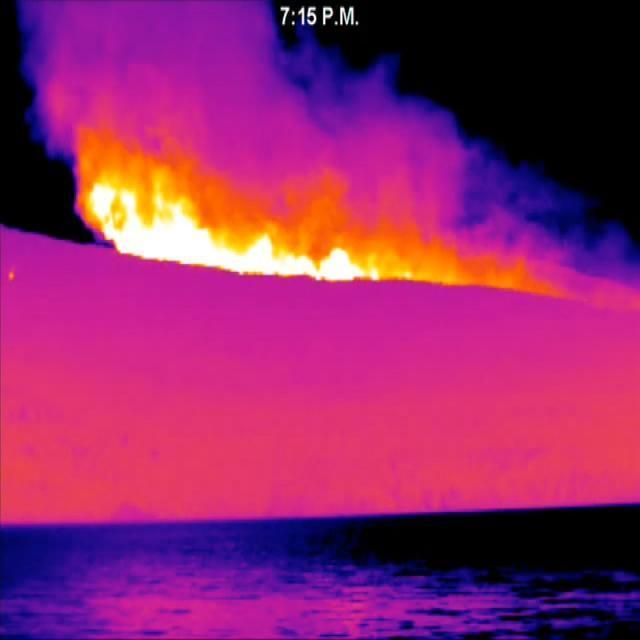fire: (85, 173, 387, 287)
